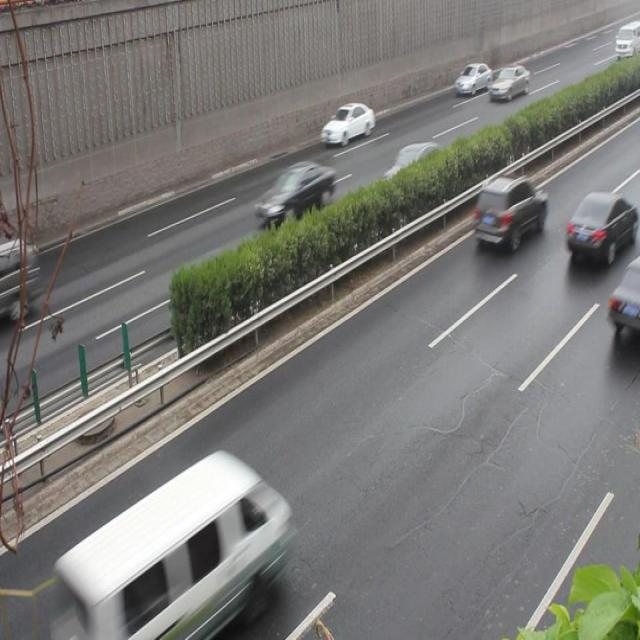car: (471, 172, 545, 252), (564, 190, 632, 266), (255, 162, 336, 224), (377, 143, 449, 200), (320, 102, 374, 149), (607, 266, 640, 342), (488, 65, 528, 102)
truck: (72, 454, 290, 640)
